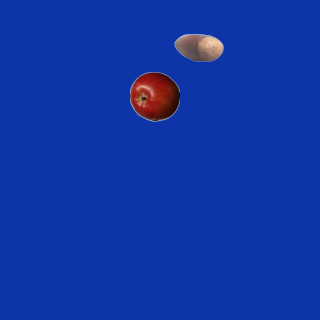Apple Braeburn: (129, 71, 179, 121)
Hazelnut: (173, 22, 223, 72)
